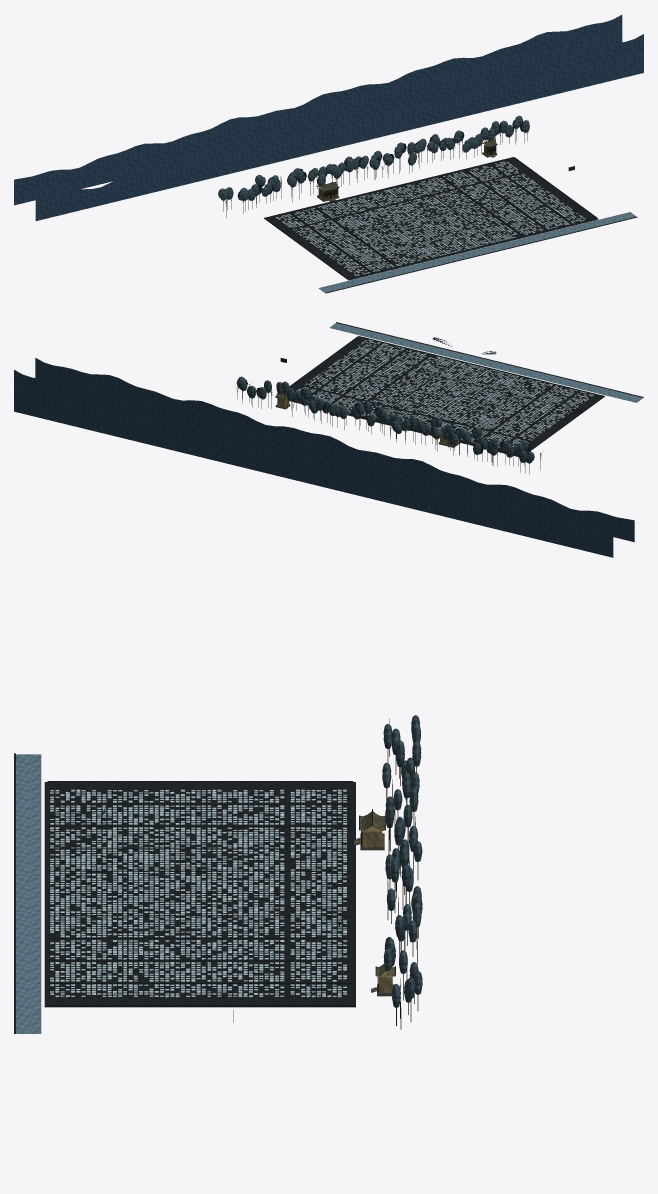
Rendered from JingXi_Aligned_Winter.glb.
3 renders of one model, top to bottom at view 1: azimuth 30°, elevation 25°; view 2: azimuth 150°, elevation 25°; view 3: azimuth 270°, elevation 25°, orthographic. The views are drawn at different scales.
Visible parts, largest first — view 1: Winter_MountainRidge_mountain, Winter_FieldEarth_earth, Winter_PatchSnow_snow, Winter_TreeCrowns_crown, Winter_YuquanCanal_water, Winter_CrossBanks_earth, Winter_FieldBanks_earth, Winter_Rice_Stubble_rice, Winter_TreeTrunks_wood, Winter_NearBank_earth, Winter_TreeCrowns_leaf; view 2: Winter_MountainRidge_mountain, Winter_FieldEarth_earth, Winter_PatchSnow_snow, Winter_TreeCrowns_crown, Winter_YuquanCanal_water, Winter_CrossBanks_earth, Winter_FieldBanks_earth, Winter_Rice_Stubble_rice, Winter_TreeTrunks_wood, Winter_NearBank_earth, Winter_TreeCrowns_leaf; view 3: Winter_FieldEarth_earth, Winter_PatchSnow_snow, Winter_YuquanCanal_water, Winter_TreeCrowns_crown, Winter_FieldBanks_earth, Winter_CrossBanks_earth, Winter_TreeTrunks_wood.
Boxes of the visible parts, x1=… form: Winter_MountainRidge_mountain: x1=14, y1=15, x2=643, y2=220; Winter_FieldEarth_earth: x1=264, y1=157, x2=598, y2=280; Winter_PatchSnow_snow: x1=275, y1=161, x2=585, y2=276; Winter_TreeCrowns_crown: x1=218, y1=115, x2=529, y2=200; Winter_YuquanCanal_water: x1=318, y1=212, x2=636, y2=292; Winter_CrossBanks_earth: x1=265, y1=157, x2=596, y2=278; Winter_FieldBanks_earth: x1=264, y1=157, x2=597, y2=279; Winter_Rice_Stubble_rice: x1=279, y1=161, x2=585, y2=275; Winter_TreeTrunks_wood: x1=223, y1=126, x2=527, y2=217; Winter_NearBank_earth: x1=325, y1=217, x2=637, y2=293; Winter_TreeCrowns_leaf: x1=225, y1=120, x2=522, y2=200; Winter_MountainRidge_mountain: x1=14, y1=358, x2=634, y2=557; Winter_FieldEarth_earth: x1=275, y1=336, x2=604, y2=456; Winter_PatchSnow_snow: x1=296, y1=339, x2=593, y2=447; Winter_TreeCrowns_crown: x1=237, y1=376, x2=534, y2=463; Winter_YuquanCanal_water: x1=329, y1=323, x2=643, y2=402; Winter_CrossBanks_earth: x1=294, y1=336, x2=603, y2=455; Winter_FieldBanks_earth: x1=289, y1=336, x2=604, y2=451; Winter_Rice_Stubble_rice: x1=298, y1=339, x2=593, y2=447; Winter_TreeTrunks_wood: x1=237, y1=384, x2=540, y2=474; Winter_NearBank_earth: x1=336, y1=322, x2=643, y2=397; Winter_TreeCrowns_leaf: x1=236, y1=379, x2=530, y2=455; Winter_FieldEarth_earth: x1=44, y1=782, x2=355, y2=1007; Winter_PatchSnow_snow: x1=50, y1=789, x2=346, y2=997; Winter_YuquanCanal_water: x1=16, y1=754, x2=41, y2=1033; Winter_TreeCrowns_crown: x1=382, y1=715, x2=422, y2=1007; Winter_FieldBanks_earth: x1=48, y1=781, x2=352, y2=1006; Winter_CrossBanks_earth: x1=47, y1=781, x2=353, y2=1005; Winter_TreeTrunks_wood: x1=386, y1=748, x2=418, y2=1029.
Bounding box in the file's own units: 195 × 13.26 × 95.15.
15 materials, 15 textured.
